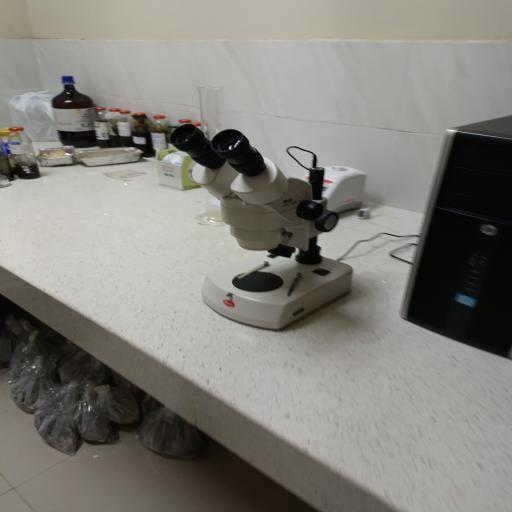Microscopio_estereo: (150, 114, 368, 338)
